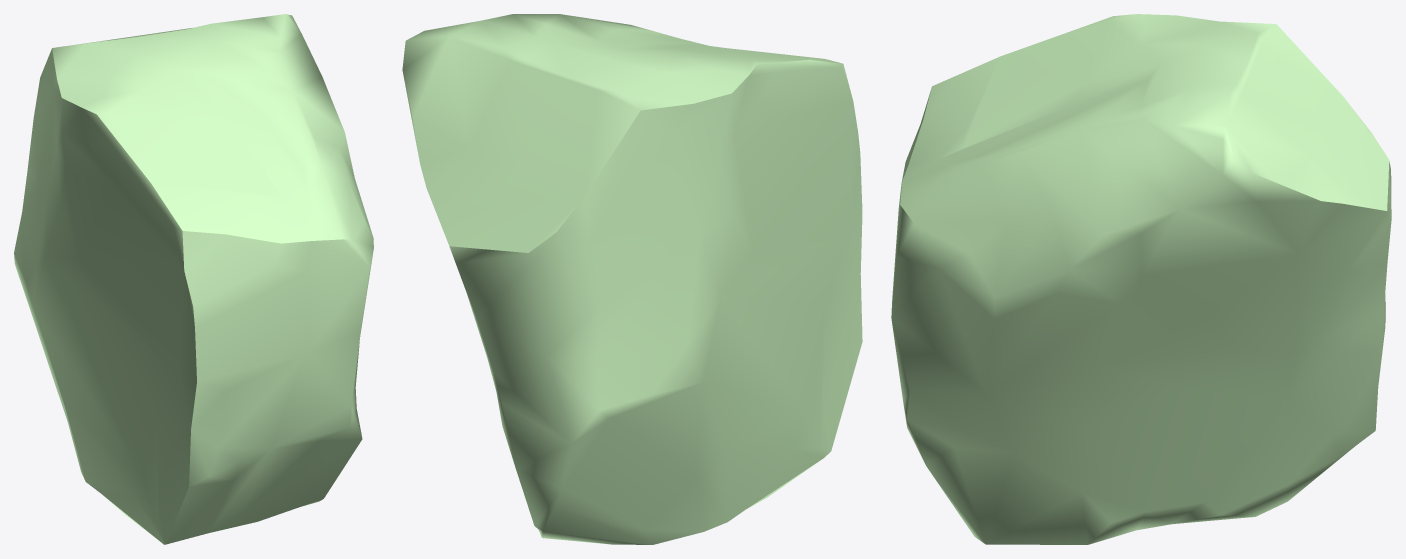
3 renders of one model, left to right at view 1: azimuth 30°, elevation 25°; view 2: azimuth 150°, elevation 25°; view 3: azimuth 270°, elevation 25°, orthographic. The views are drawn at different scales.
Parts seen in each view (by area): view 1: SM_FH_LimestoneSm_01_LOD0; view 2: SM_FH_LimestoneSm_01_LOD0; view 3: SM_FH_LimestoneSm_01_LOD0.
Part boxes in pixels (x1,y1,x2,y2): SM_FH_LimestoneSm_01_LOD0: (14, 14, 373, 544); SM_FH_LimestoneSm_01_LOD0: (402, 14, 862, 544); SM_FH_LimestoneSm_01_LOD0: (891, 14, 1391, 544).
Size of the model in its own units: 0.2581 by 0.3727 by 0.3729.
